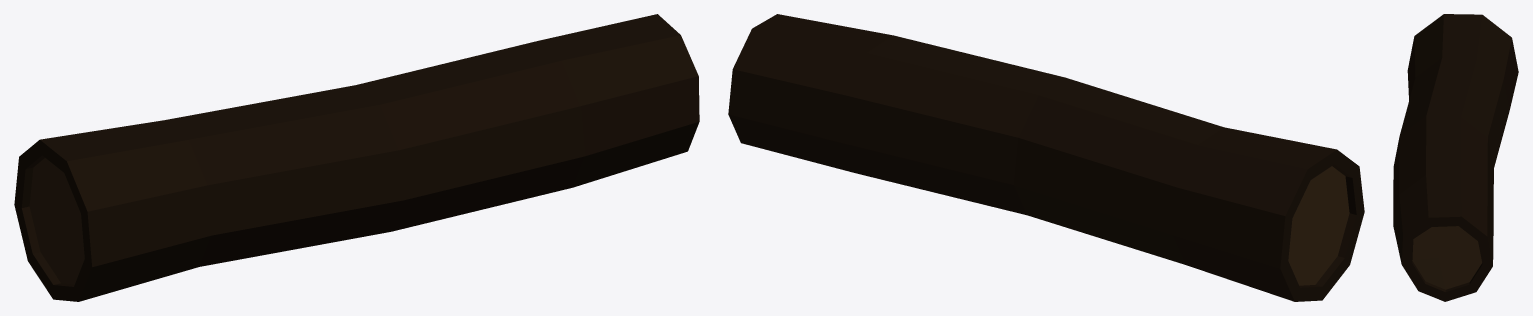
File: Log03_FBX.fbx
3 renders of one model, left to right at view 1: azimuth 30°, elevation 25°; view 2: azimuth 150°, elevation 25°; view 3: azimuth 270°, elevation 25°, orthographic. The views are drawn at different scales.
Parts seen in each view (by area): view 1: LOG 3; view 2: LOG 3; view 3: LOG 3.
Boxes of the visible parts, x1,y1,x2,y2 form: LOG 3: (14, 14, 699, 301); LOG 3: (728, 14, 1364, 301); LOG 3: (1393, 14, 1518, 301).
Size of the model in its own units: 106 by 24.84 by 28.48.
